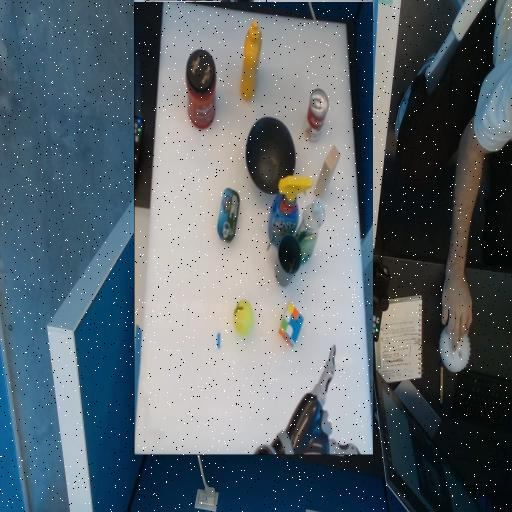bowl: (211, 263, 261, 338)
cleanser: (182, 193, 213, 258)
coffee_can: (291, 328, 320, 407)
jaco: (146, 1, 221, 110)
meat_can: (267, 214, 289, 268)
mug: (206, 182, 232, 208)
mustard_bottle: (246, 386, 266, 404)
rubik: (203, 111, 227, 153)
soup_can: (179, 315, 202, 367)
tennis_ball: (254, 121, 274, 155)
windex: (195, 214, 239, 280)
wooden_block: (167, 260, 192, 310)
workspace: (134, 2, 373, 454)
